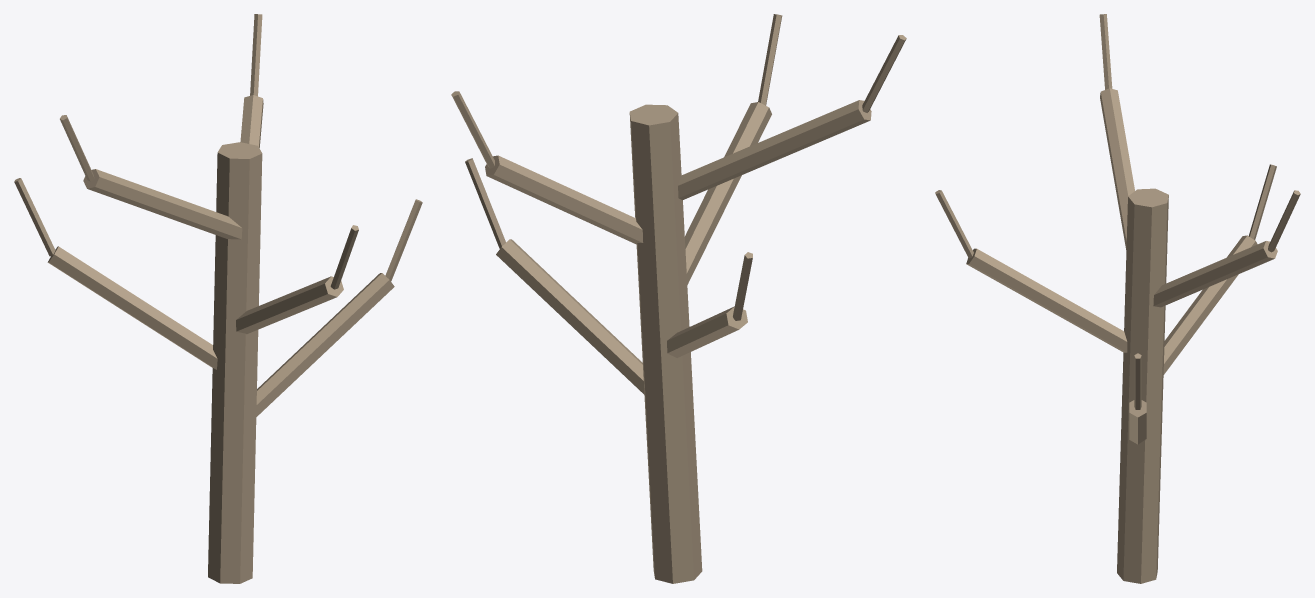
File: dead-tree.glb
The picture shows the model from 3 angles, left to right: view 1: azimuth 30°, elevation 25°; view 2: azimuth 150°, elevation 25°; view 3: azimuth 270°, elevation 25°; orthographic projection. The views are drawn at different scales.
Visible parts, largest first — view 1: Twisted bole; view 2: Twisted bole; view 3: Twisted bole.
Boxes of the visible parts, bbox=[...] form: Twisted bole: bbox=[14, 14, 422, 583]; Twisted bole: bbox=[451, 14, 906, 583]; Twisted bole: bbox=[935, 14, 1300, 583].
Bounding box in the file's own units: 3.63 × 4.74 × 3.28.
